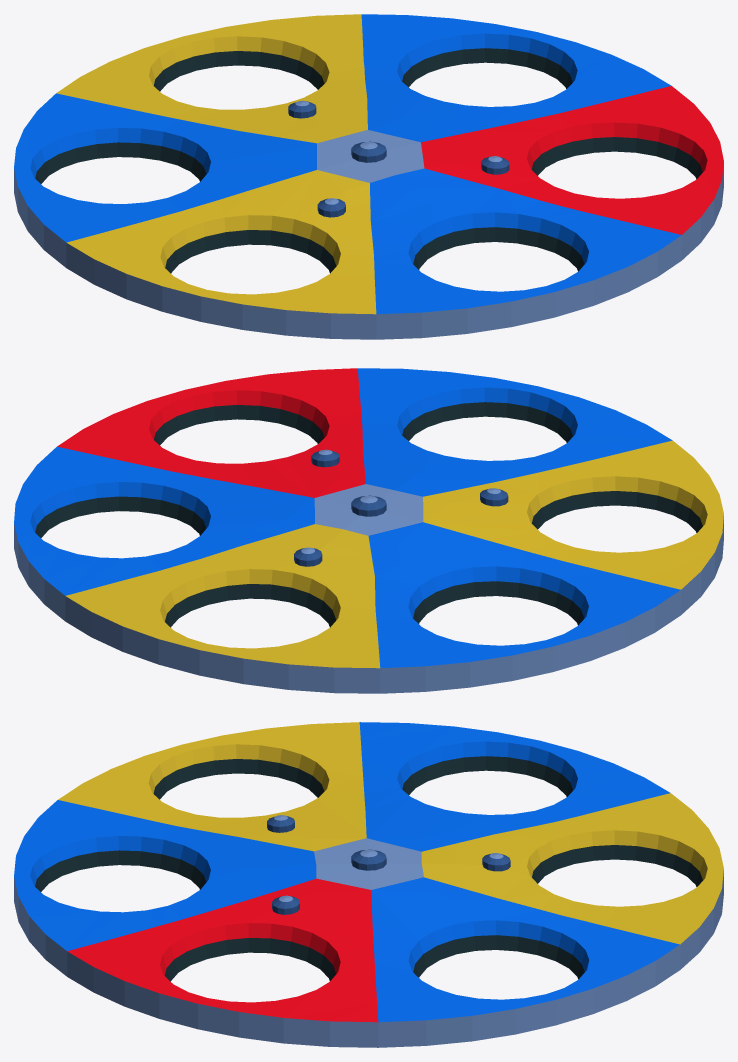
The model's file is spin.glb.
The picture shows the model from 3 angles, top to bottom: view 1: azimuth 30°, elevation 25°; view 2: azimuth 150°, elevation 25°; view 3: azimuth 270°, elevation 25°; orthographic projection.
Parts seen in each view (by area): view 1: spin; view 2: spin; view 3: spin.
Boxes of the visible parts, bbox=[...] form: spin: bbox=[14, 14, 723, 339]; spin: bbox=[14, 368, 723, 693]; spin: bbox=[14, 722, 723, 1047].
Size of the model in its own units: 4.69 by 0.3318 by 4.69.
1 material, 1 textured.
